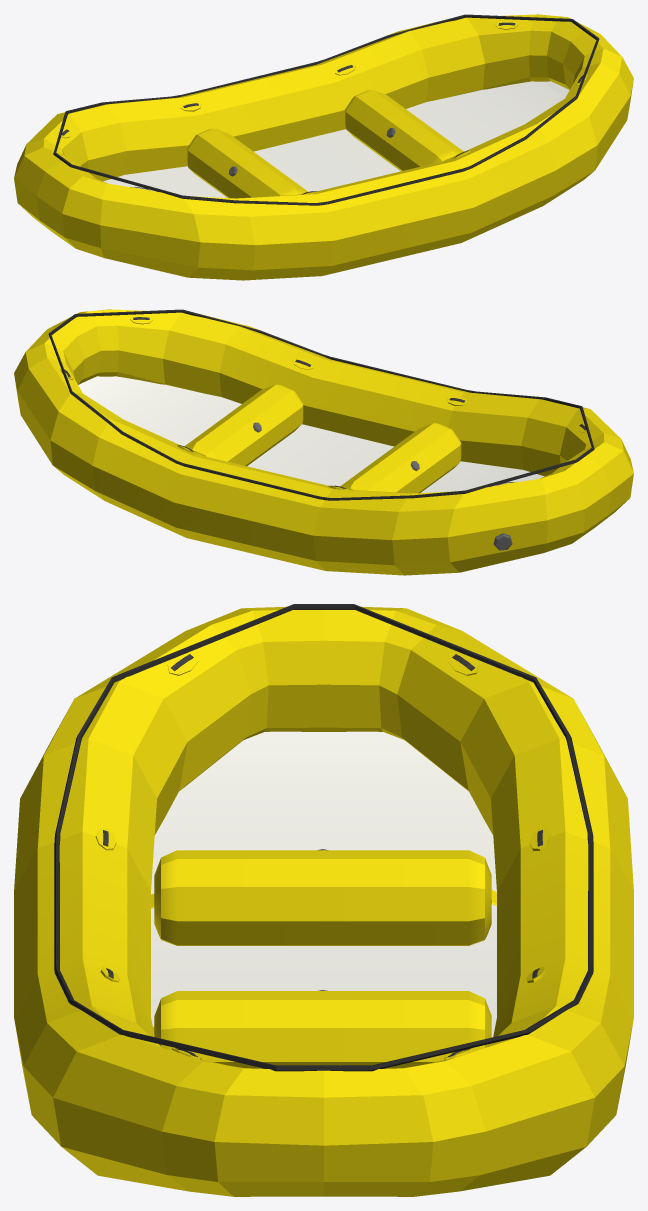
File: Nasa_Raft.fbx
3 views of the same model, one above another, from view 1: azimuth 30°, elevation 25°; view 2: azimuth 150°, elevation 25°; view 3: azimuth 270°, elevation 25° (orthographic). The views are drawn at different scales.
Parts seen in each view (by area): view 1: Raft_Side_Left, Raft_side_Right, Raft_Bot, Inflatable_Seat_Front, Inflatable_Seat_Back, pCylinder2, pCylinder1, Handles_Right; view 2: Raft_side_Right, Raft_Side_Left, Raft_Bot, Inflatable_Seat_Front, Inflatable_Seat_Back, pCylinder1, pCylinder2, Handles_Left; view 3: Raft_Side_Left, Raft_side_Right, Raft_Bot, Inflatable_Seat_Back, Inflatable_Seat_Front, pCylinder1, pCylinder2, Handles_Right, Handles_Left.
Part boxes in pixels (box(x1,y1,x2,y2)): Raft_Side_Left: box(36, 31, 633, 280); Raft_side_Right: box(14, 14, 599, 231); Raft_Bot: box(103, 81, 569, 197); Inflatable_Seat_Front: box(345, 90, 463, 171); Inflatable_Seat_Back: box(187, 128, 307, 198); pCylinder2: box(61, 28, 599, 205); pCylinder1: box(53, 14, 585, 159); Handles_Right: box(58, 20, 518, 138); Raft_side_Right: box(14, 326, 611, 575); Raft_Side_Left: box(48, 309, 633, 526); Raft_Bot: box(78, 376, 544, 492); Inflatable_Seat_Front: box(185, 384, 303, 466); Inflatable_Seat_Back: box(340, 423, 461, 493); pCylinder1: box(48, 323, 585, 500); pCylinder2: box(62, 309, 594, 455); Handles_Left: box(130, 315, 589, 432); Raft_Side_Left: box(14, 606, 324, 1196); Raft_side_Right: box(323, 606, 633, 1196); Raft_Bot: box(151, 731, 496, 1037); Inflatable_Seat_Back: box(154, 850, 491, 945); Inflatable_Seat_Front: box(154, 991, 491, 1068); pCylinder1: box(323, 604, 593, 1071); pCylinder2: box(54, 604, 325, 1071); Handles_Right: box(444, 651, 550, 1059); Handles_Left: box(95, 652, 201, 1059).
Bounding box in the file's own units: 9.91 × 1.88 × 5.08.
